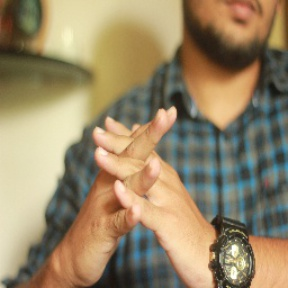W: (82, 96, 188, 257)
